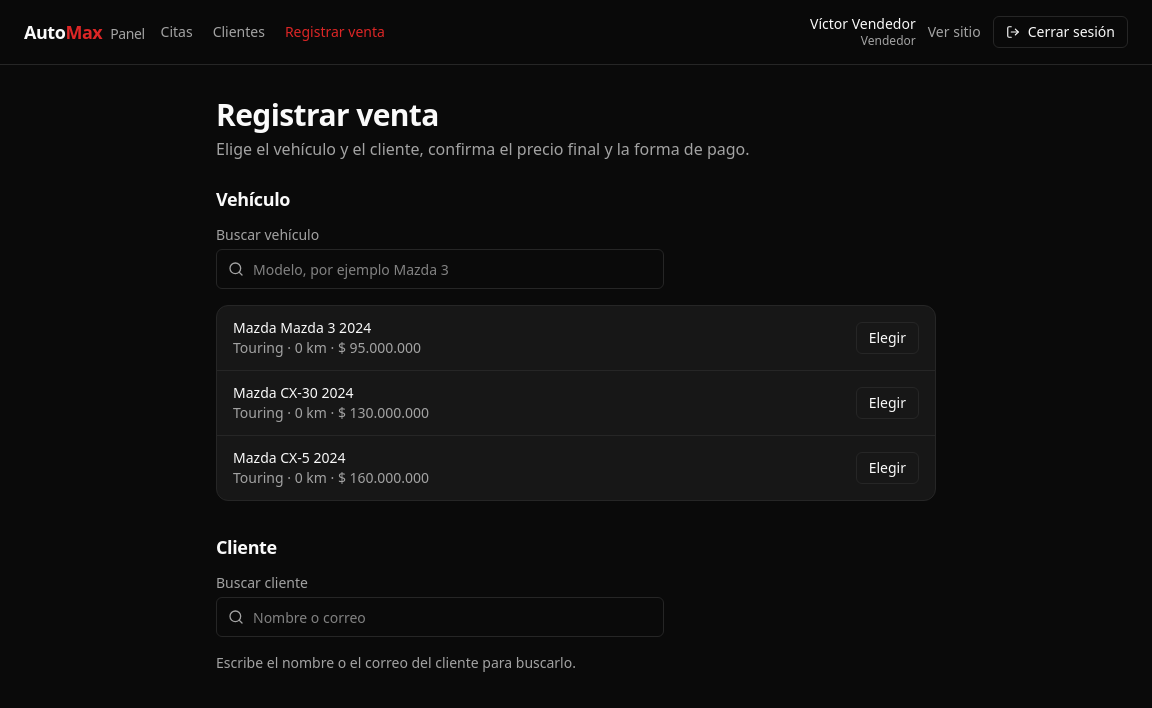
Scenario: registrar venta: formulario › busca vehículos por modelo con pausa y mínimo de 3 caracteres
The width and height of the screenshot is (1152, 708).
Check: the list named "Vehículos disponibles" is shown, box [216,305,936,501]
Type "cx" into the search field labelled "Buscar vehículo" at point(440, 269), box [216,249,664,289]
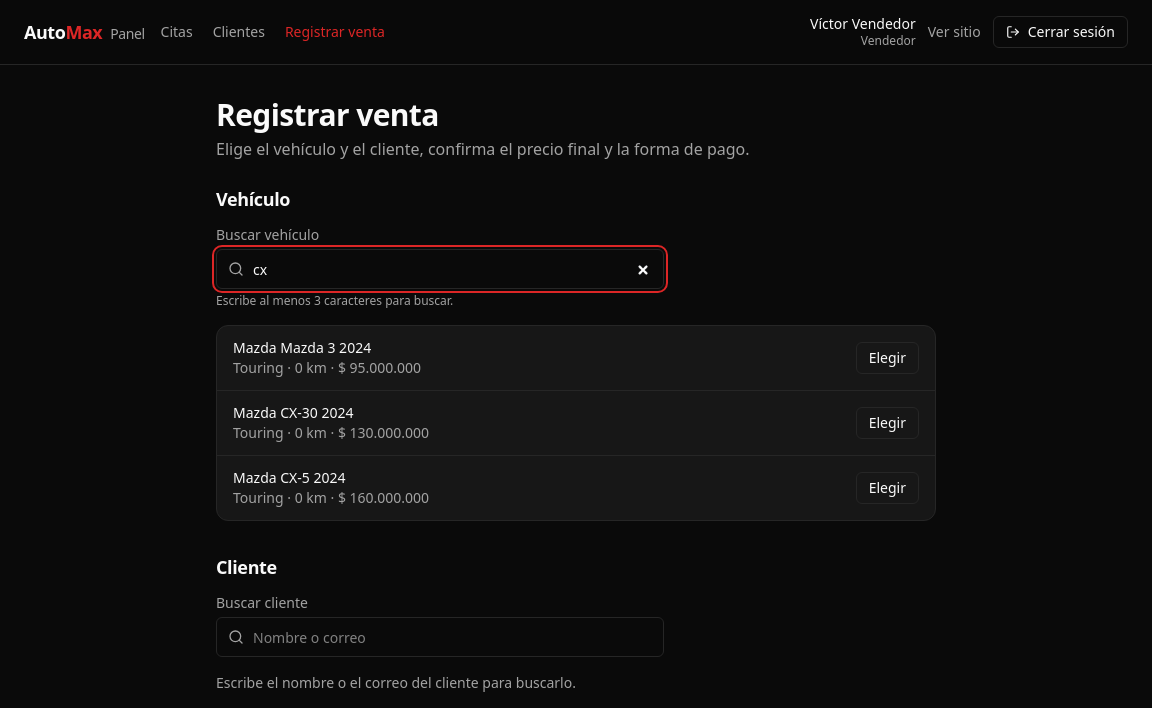
Check: the text "Escribe al menos 3 caracteres para buscar." is shown, box [216,292,453,309]
Type "-5" into the search field labelled "Buscar vehículo" at point(440, 269), box [216,249,664,289]
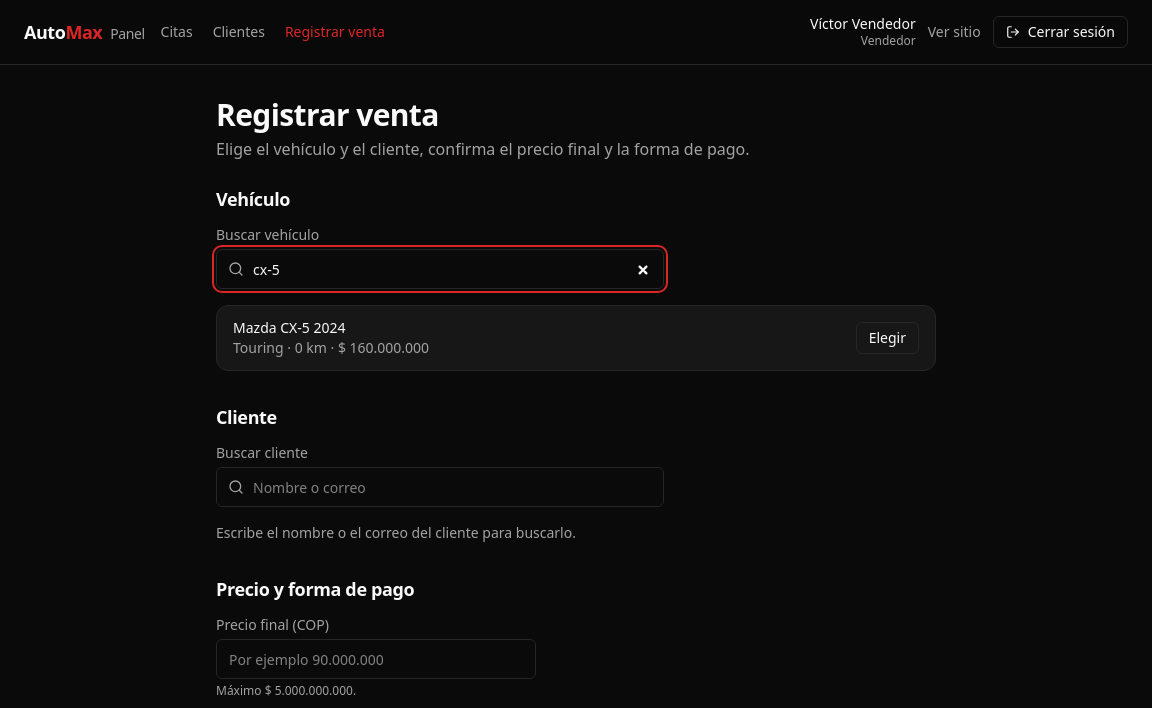
Check: the number of list items is 1, box [217,306,935,370]
